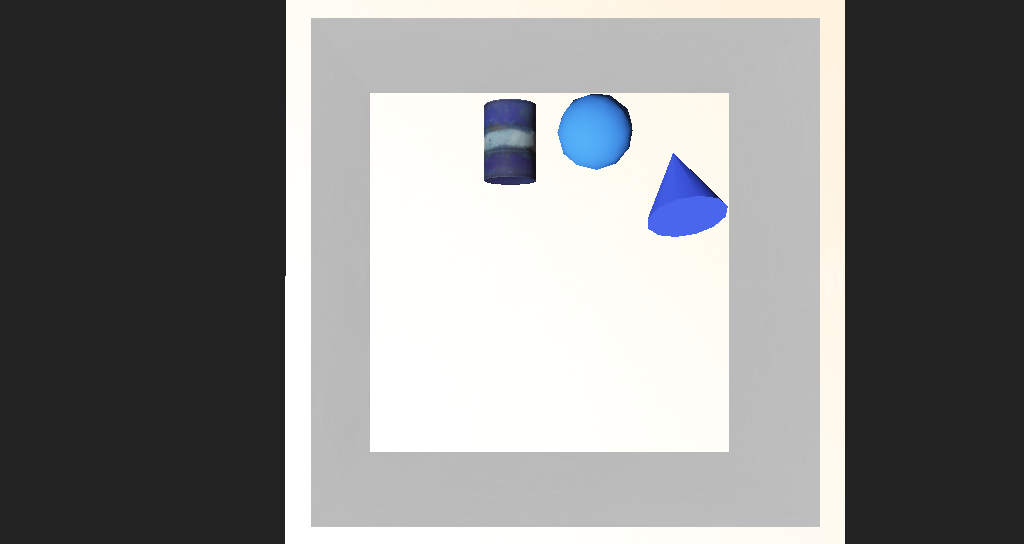cone: (448, 167, 495, 215)
cylinder: (573, 181, 653, 248)
sphere: (515, 165, 576, 208)
